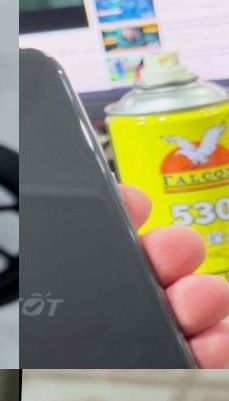scratch: (19, 40, 80, 89)
